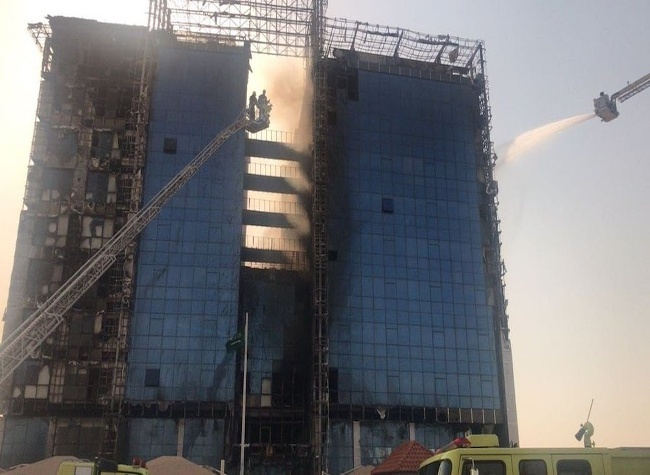Smoke: (267, 74, 313, 155)
